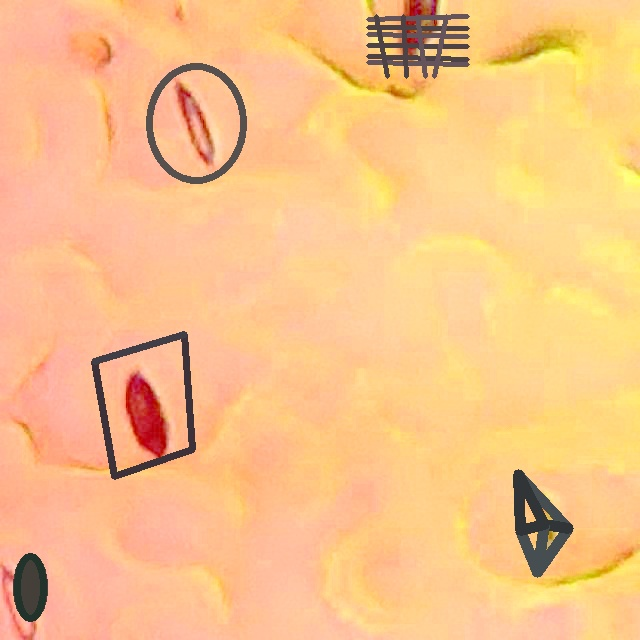open: (92, 331, 194, 479), (147, 62, 246, 184), (366, 14, 469, 78), (515, 470, 573, 577), (13, 552, 47, 622)
